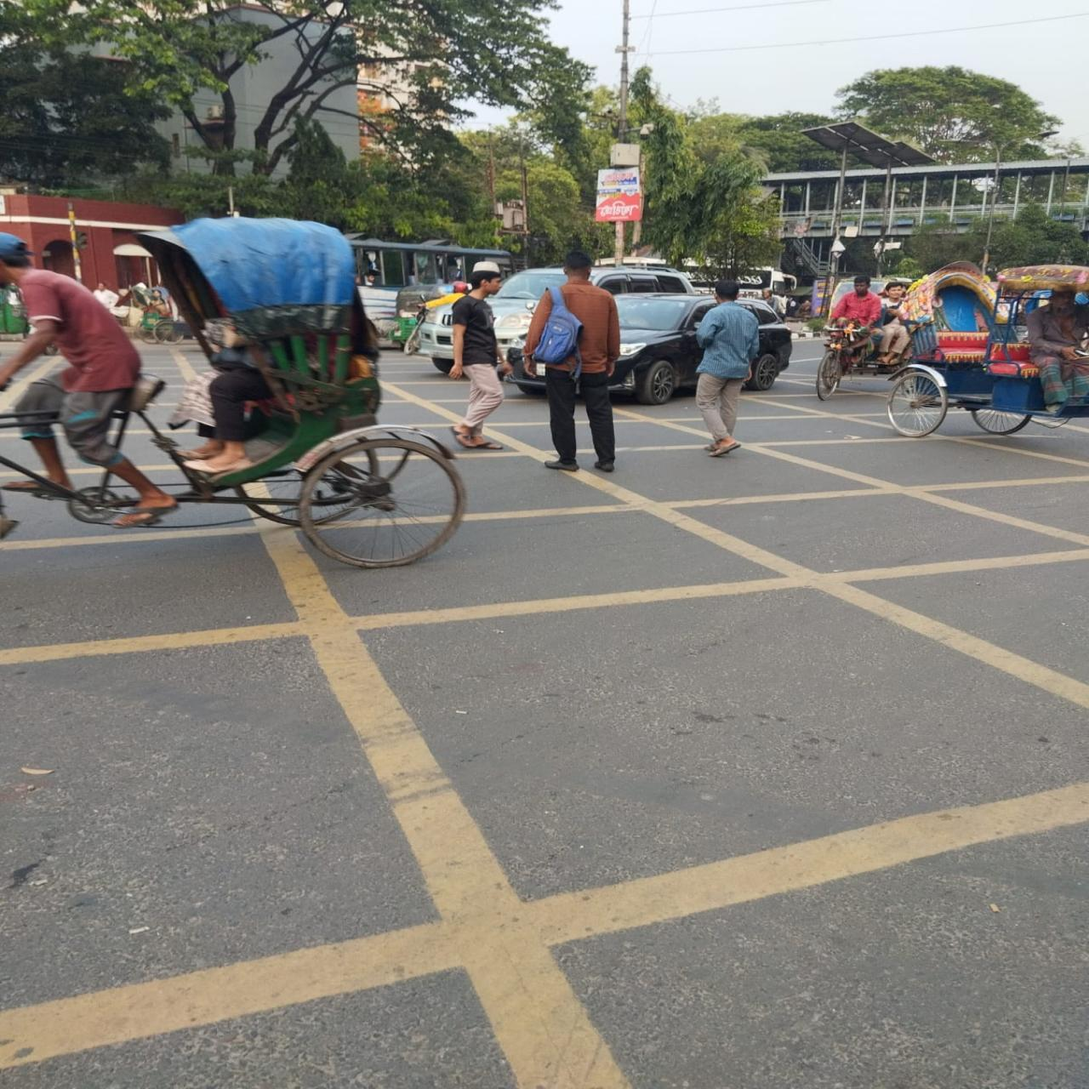person: (523, 253, 623, 474), (691, 278, 762, 460), (447, 261, 512, 453)
